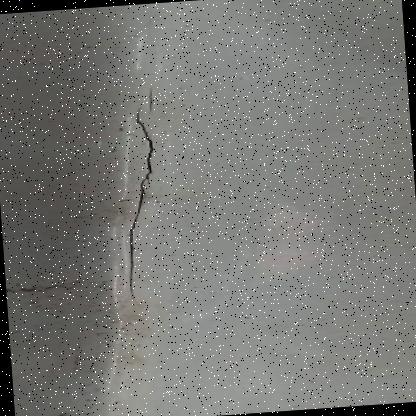Crack: (0, 32, 227, 337)
